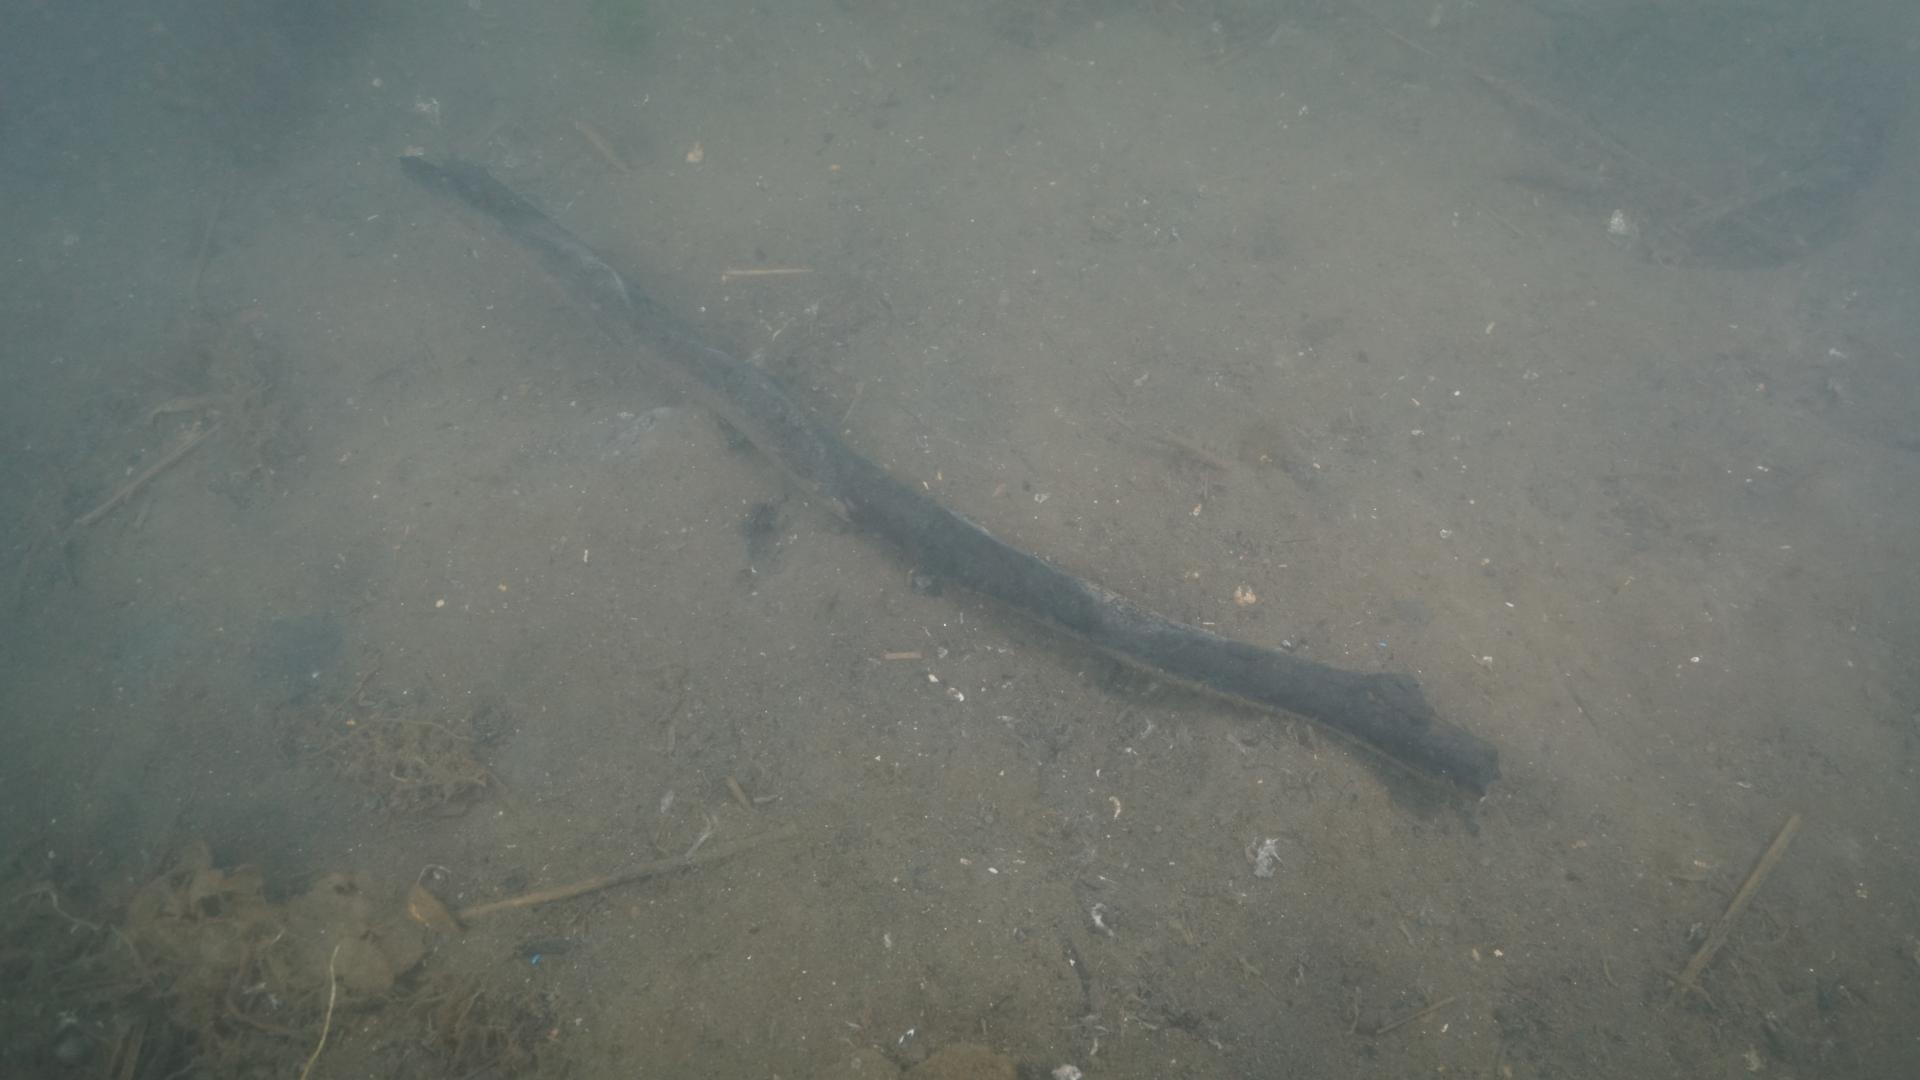wood: (405, 150, 1502, 794)
